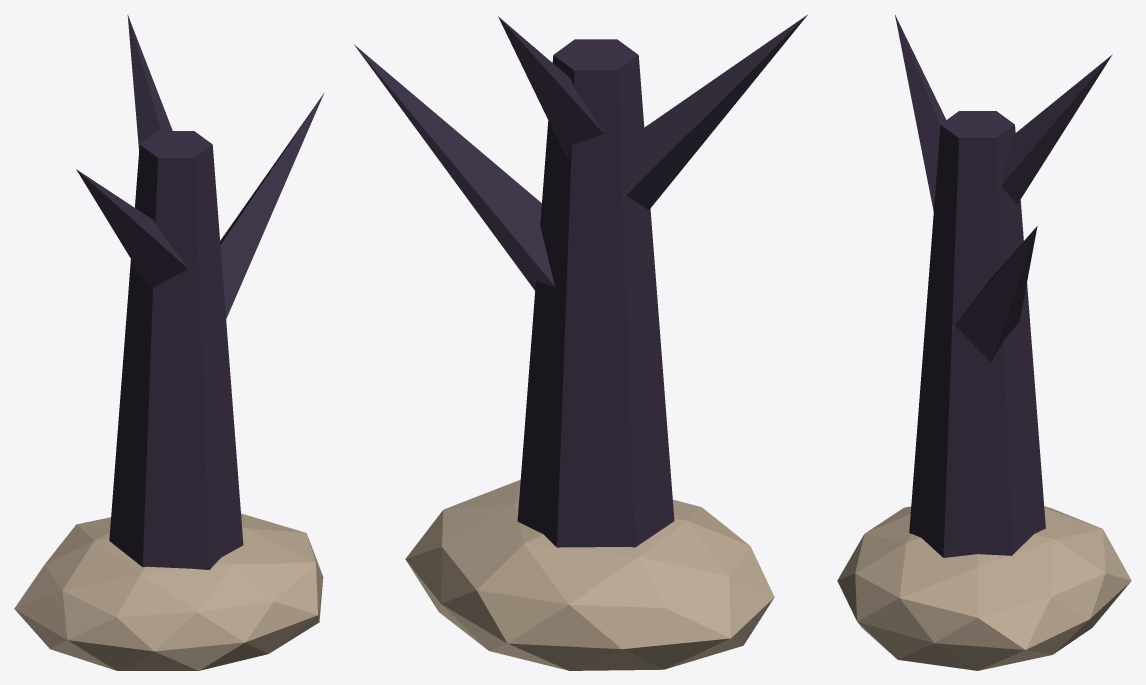
File: dead-tree.glb
3 renders of one model, left to right at view 1: azimuth 30°, elevation 25°; view 2: azimuth 150°, elevation 25°; view 3: azimuth 270°, elevation 25°, orthographic. The views are drawn at different scales.
Parts seen in each view (by area): view 1: volcanic-dead-tree; view 2: volcanic-dead-tree; view 3: volcanic-dead-tree.
Part boxes in pixels (bbox=[...]): volcanic-dead-tree: bbox=[14, 15, 323, 670]; volcanic-dead-tree: bbox=[354, 14, 807, 670]; volcanic-dead-tree: bbox=[837, 15, 1131, 670].
Size of the model in its own units: 0.5041 by 0.8373 by 0.3955.
